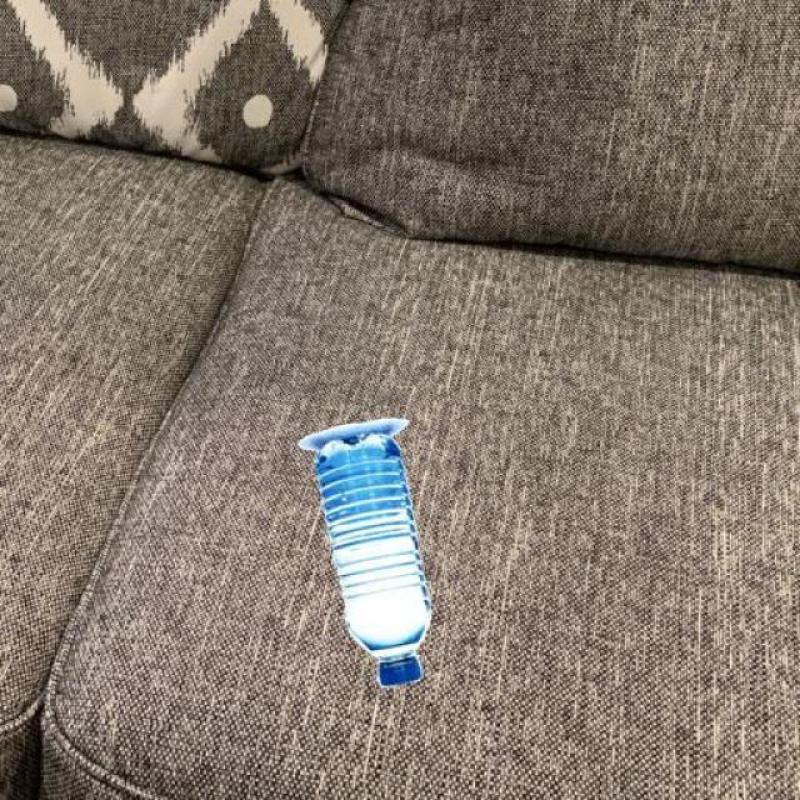botella: (314, 431, 430, 688)
